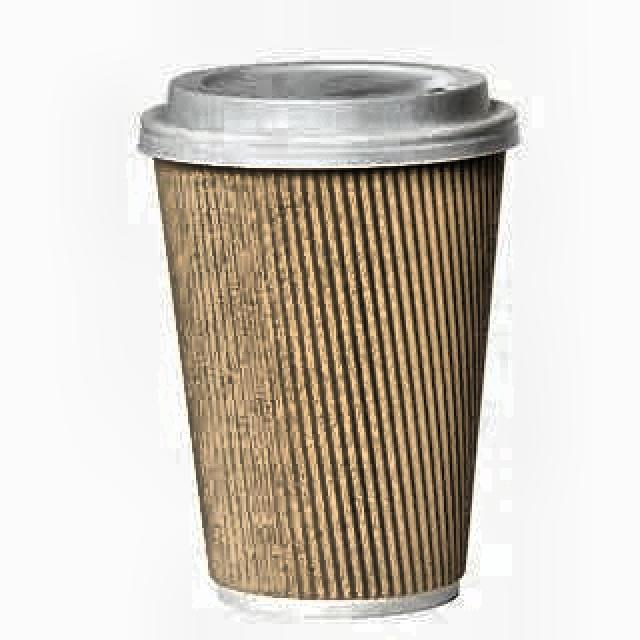Cup: (134, 67, 513, 610)
